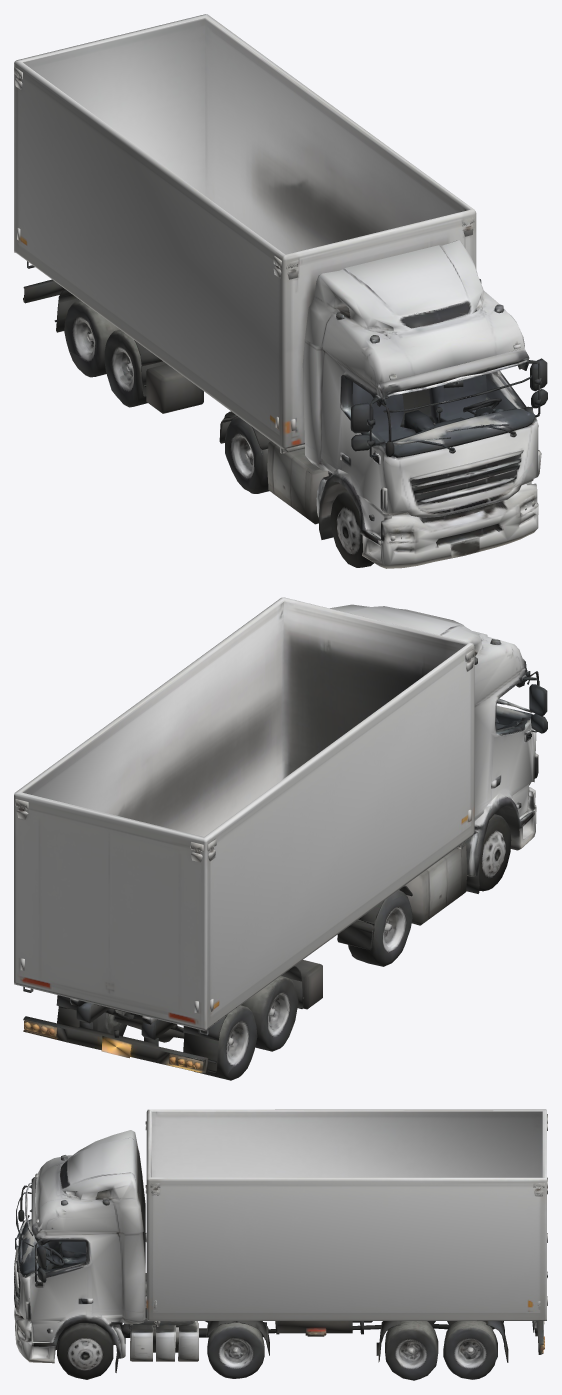
The model's file is semi_truck.glb.
3 views of the same model, one above another, from view 1: azimuth 30°, elevation 25°; view 2: azimuth 150°, elevation 25°; view 3: azimuth 270°, elevation 25° (orthographic). The views are drawn at different scales.
Parts seen in each view (by area): view 1: tripo_node_ec5b85d2-6f67-4b82-9016-313f02b875d1; view 2: tripo_node_ec5b85d2-6f67-4b82-9016-313f02b875d1; view 3: tripo_node_ec5b85d2-6f67-4b82-9016-313f02b875d1.
Part boxes in pixels (x1,y1,x2,y2): tripo_node_ec5b85d2-6f67-4b82-9016-313f02b875d1: (14,14,547,568); tripo_node_ec5b85d2-6f67-4b82-9016-313f02b875d1: (14,597,547,1080); tripo_node_ec5b85d2-6f67-4b82-9016-313f02b875d1: (14,1109,547,1380).
Bounding box in the file's own units: 3.72 × 5.15 × 11.8.
1 material, 1 textured.
